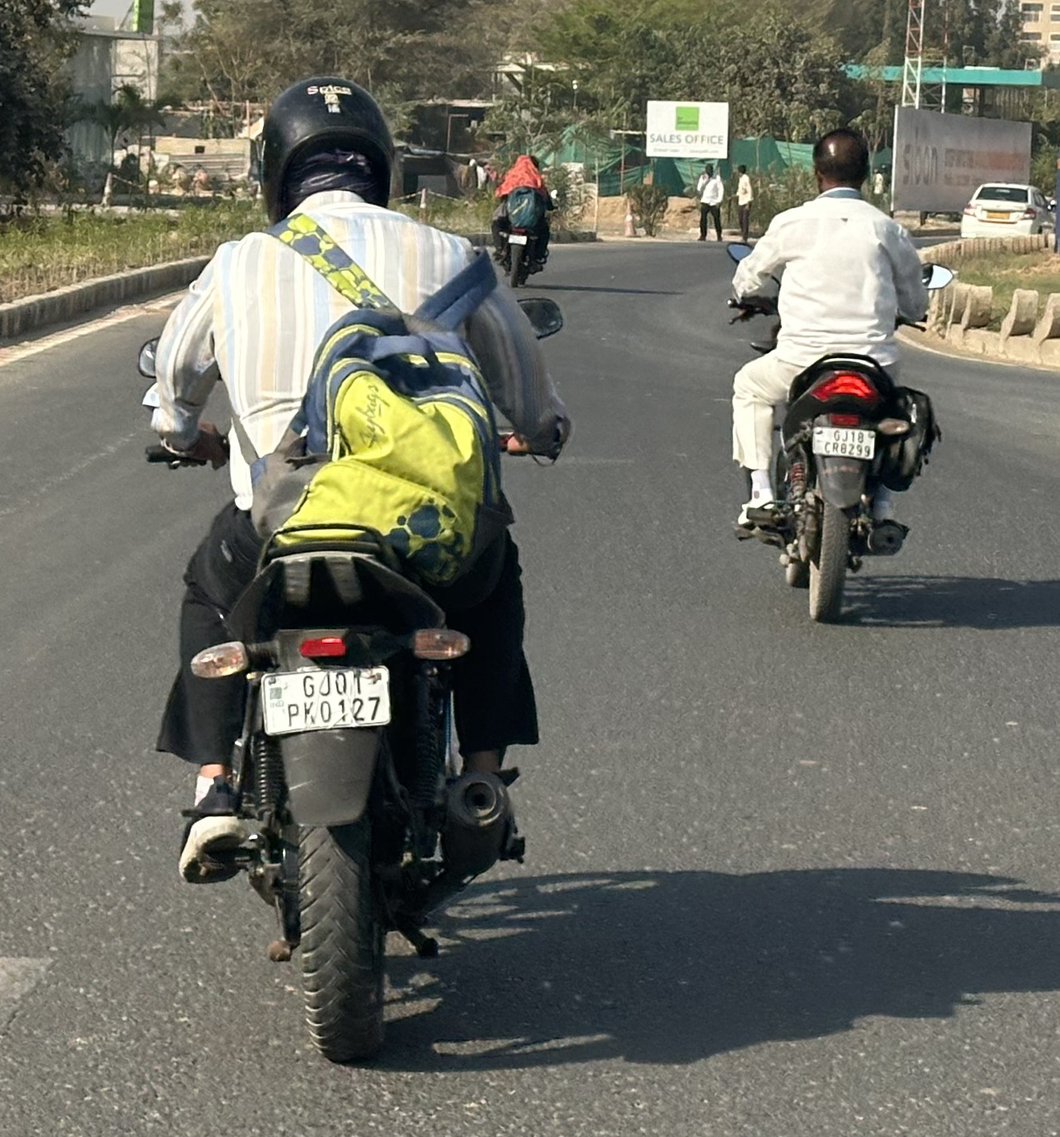BikeWithRider: (130, 73, 567, 1070), (715, 124, 956, 623), (482, 138, 564, 292)
Helmet: (254, 75, 401, 230)
NoHelmet: (808, 123, 874, 201), (506, 147, 540, 179)
